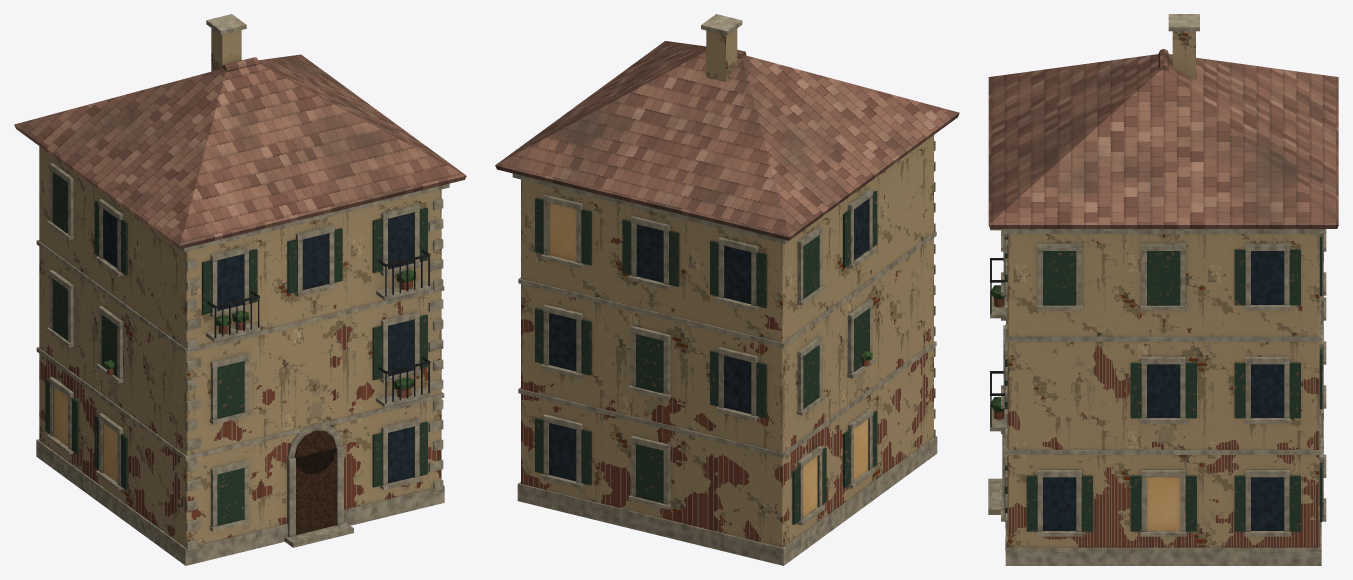
File: siracusa_house_d.glb
3 views of the same model, side by side, from view 1: azimuth 30°, elevation 25°; view 2: azimuth 150°, elevation 25°; view 3: azimuth 270°, elevation 25° (orthographic). The views are drawn at different scales.
Visible parts, largest first — view 1: siracusa_house_d; view 2: siracusa_house_d; view 3: siracusa_house_d.
Boxes of the visible parts, left/top/right/bottom form: siracusa_house_d: left=14, top=14, right=466, bottom=565; siracusa_house_d: left=495, top=14, right=959, bottom=565; siracusa_house_d: left=988, top=14, right=1338, bottom=565.
Bounding box in the file's own units: 8.98 × 13.48 × 8.99.
Materials: 10 (10 with a texture image).
